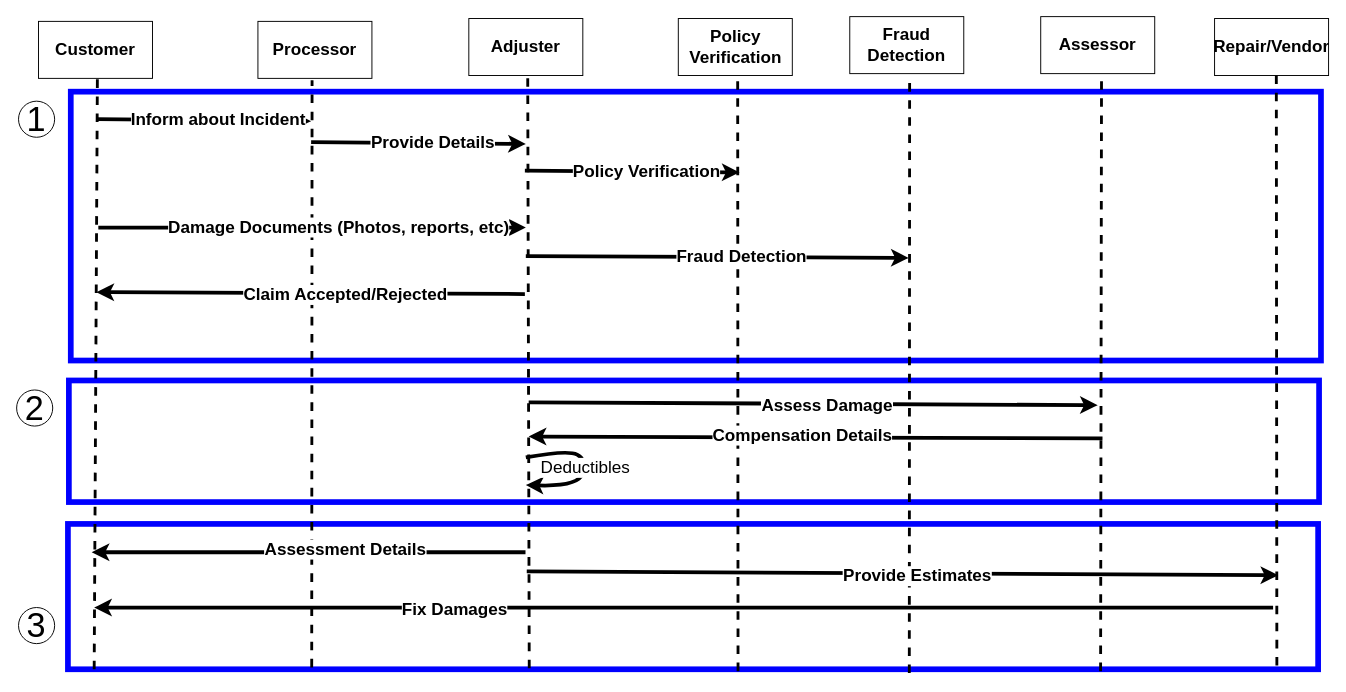
The diagram is 1346 pixels wide and 692 high, and some of its shapes have lost their labels. The centre of each missing label's shape, as x and y in pixels:
"Appraisal" goes at point 693,440.
"First Notice of Loss" goes at point 695,225.
"Settlement" goes at point 692,596.
